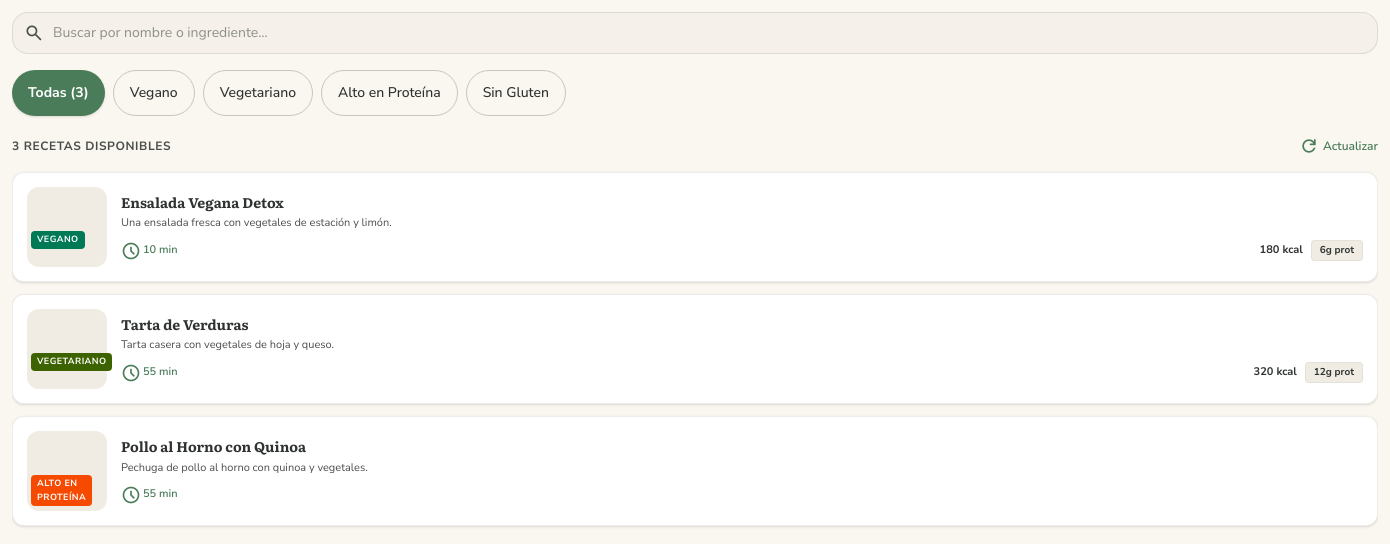
Test: RecipeCatalogList › filters by category, and a recipe with more than one category shows up under each of them
Click the button "Alto en Proteína": (389, 93) x1=321 y1=70 x2=458 y2=116
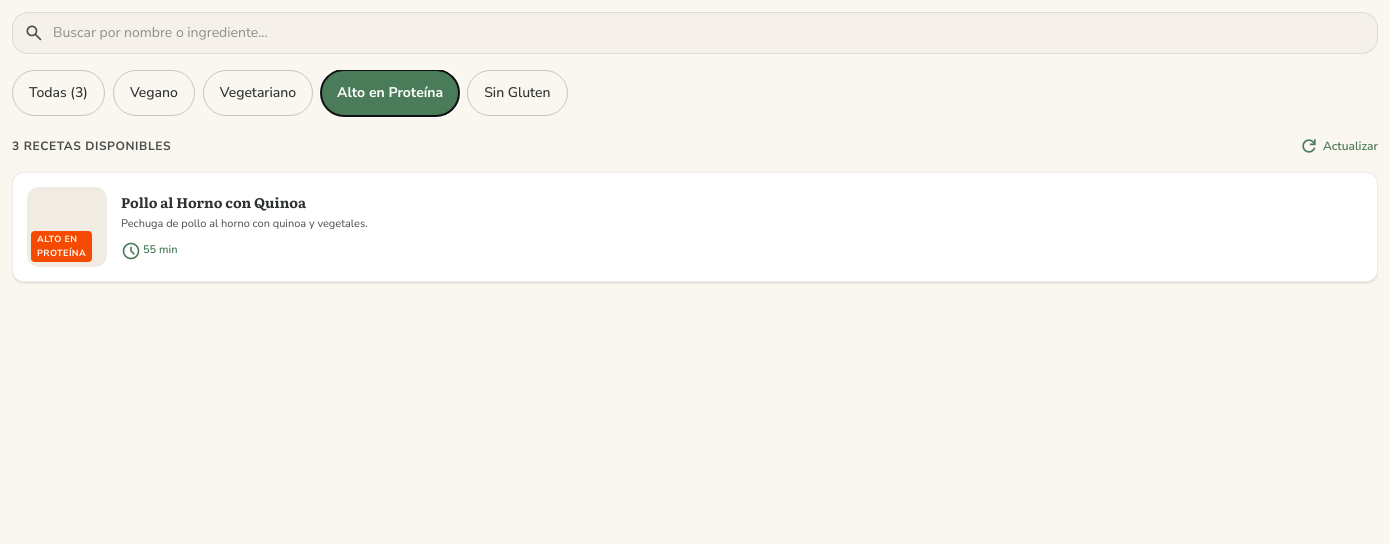
Expected: the heading "Pollo al Horno con Quinoa" is shown, x1=121 y1=192 x2=306 y2=212
Now the button "Ensalada Vegana Detox" is gone
Click the button "Sin Gluten": (517, 93) x1=467 y1=70 x2=568 y2=116
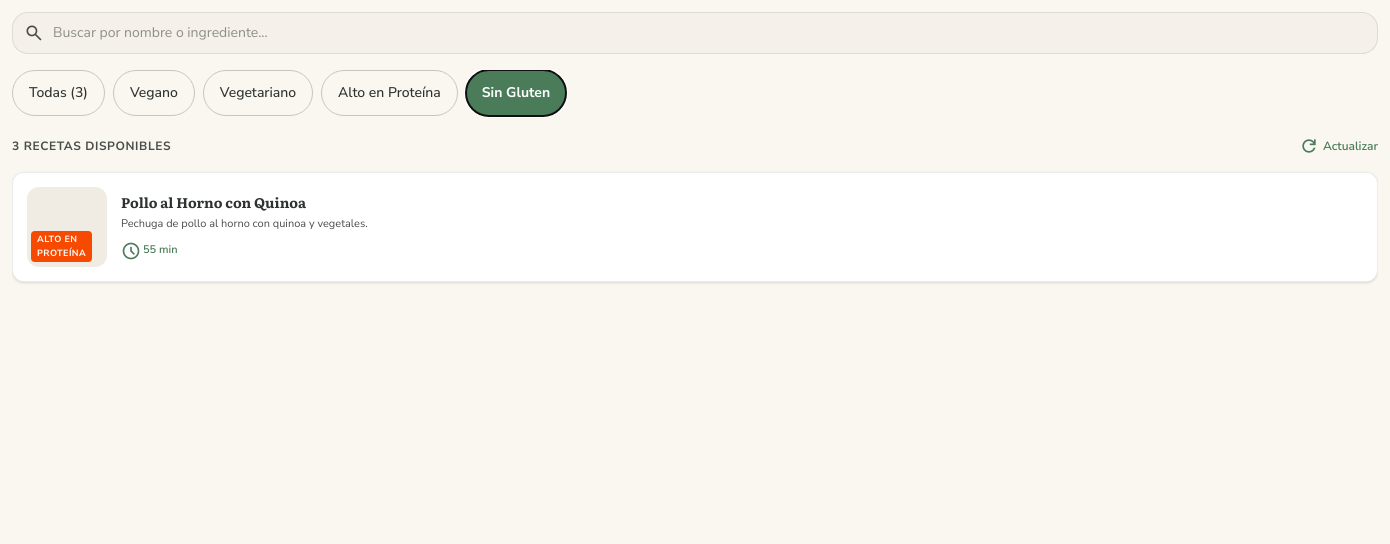
Expected: the heading "Pollo al Horno con Quinoa" is shown, x1=121 y1=192 x2=306 y2=212
Click the button "Todas (3)": (58, 93) x1=12 y1=70 x2=105 y2=116
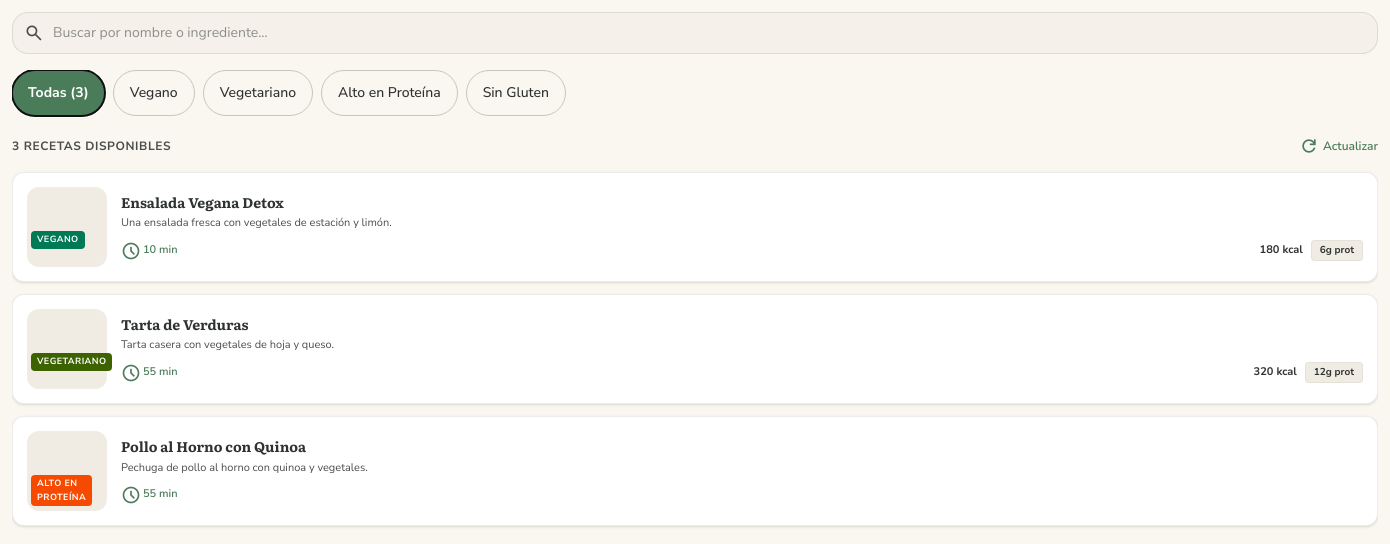
Now the heading "Ensalada Vegana Detox" is shown, box x1=121 y1=192 x2=284 y2=212
Now the heading "Tarta de Verduras" is shown, box x1=121 y1=314 x2=248 y2=334
